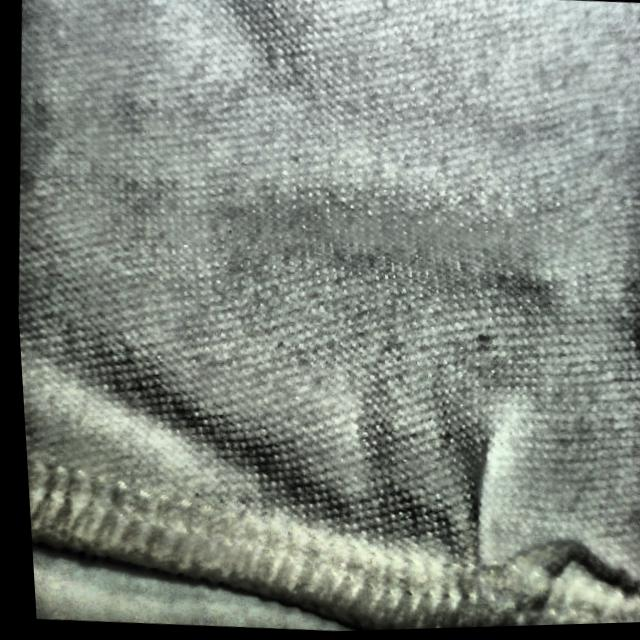seam: (417, 455, 640, 631)
